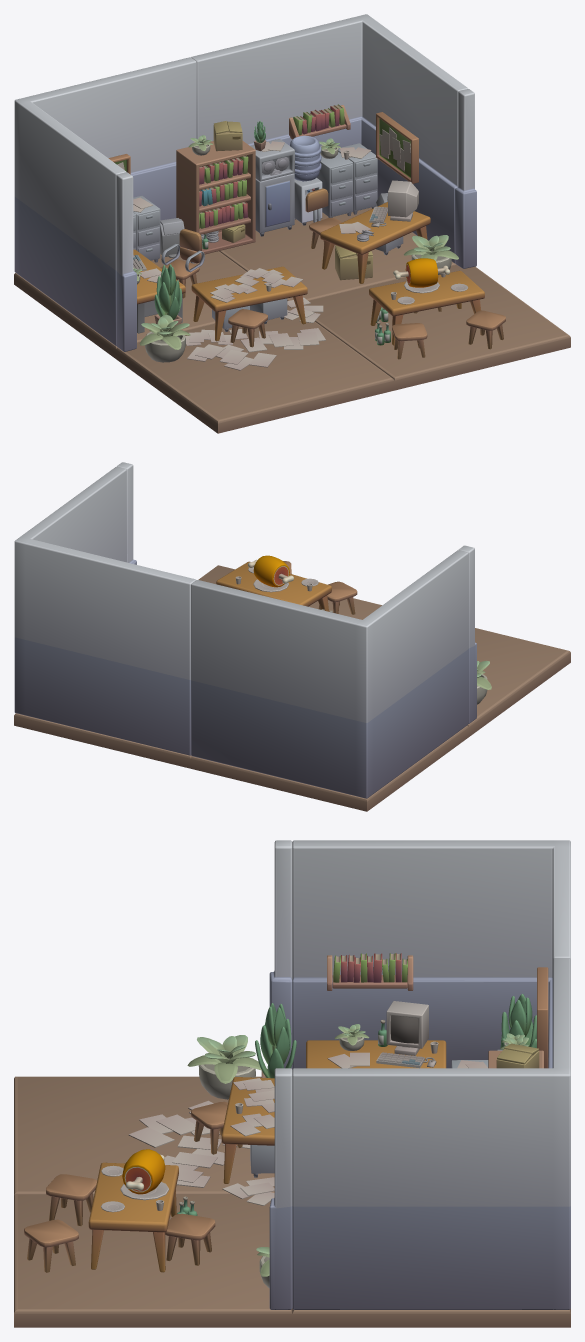
Rendered from grace_hopper_analogy.glb.
3 views of the same model, one above another, from view 1: azimuth 30°, elevation 25°; view 2: azimuth 150°, elevation 25°; view 3: azimuth 270°, elevation 25° (orthographic). The views are drawn at different scales.
Parts seen in each view (by area): view 1: wall-angle.002, wall-angle.001, wall-angle-2.007, wall-angle-2.003, box.005, Cube.001, table.003, table.002, table.007, box.012, box.014, plant.005 (+23 smaller); view 2: wall-angle.002, wall-angle.001, wall-angle-2.007, table.003, wall-angle-2.003, meal.001, chair.006; view 3: wall-angle.001, wall-angle.002, wall-angle-2.003, wall-angle-2.007, table.003, plant.005, computer.001, table.006, table.007, plant.003, many-papers.006, chair.007 (+13 smaller).
Part boxes in pixels (box(x1,y1,x2,y2)): wall-angle.002: box(14, 57, 287, 358); wall-angle.001: box(191, 14, 468, 300); wall-angle-2.007: box(116, 172, 394, 433); wall-angle-2.003: box(295, 89, 570, 390); box.005: box(176, 141, 255, 254); Cube.001: box(250, 139, 294, 236); table.003: box(369, 270, 484, 345); table.002: box(320, 202, 430, 283); table.007: box(191, 266, 307, 341); box.012: box(290, 135, 322, 225); box.014: box(316, 152, 353, 217); plant.005: box(139, 314, 190, 362); wall-angle.002: box(190, 550, 468, 811); wall-angle.001: box(14, 467, 195, 768); wall-angle-2.007: box(458, 545, 570, 736); table.003: box(216, 561, 331, 611); wall-angle-2.003: box(116, 462, 381, 619); meal.001: box(248, 555, 293, 587); chair.006: box(318, 581, 357, 614); wall-angle.001: box(292, 958, 570, 1327); wall-angle.002: box(292, 840, 570, 1069); wall-angle-2.003: box(14, 1068, 292, 1327); wall-angle-2.007: box(14, 840, 292, 1195); table.003: box(88, 1162, 178, 1272); plant.005: box(187, 1035, 261, 1099); computer.001: box(376, 1001, 436, 1068); table.006: box(306, 1040, 446, 1068); table.007: box(221, 1077, 274, 1183); plant.003: box(255, 1003, 296, 1078); many-papers.006: box(164, 1135, 234, 1187); chair.007: box(24, 1219, 78, 1272).
Bounding box in the file's own units: 20 × 10.01 × 20.
